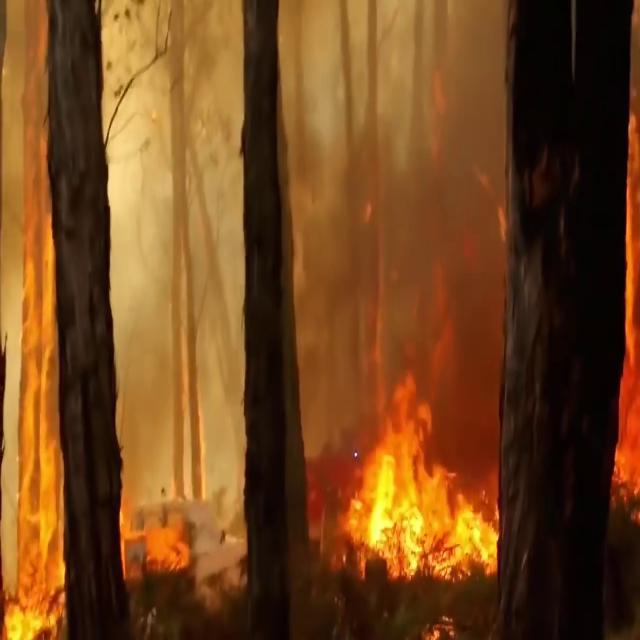Fire: (334, 364, 498, 592), (1, 203, 70, 633)
Smoke: (0, 1, 248, 608), (283, 0, 512, 404)
